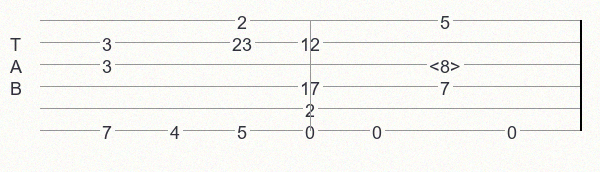0: (305, 122, 319, 139), (372, 122, 386, 139), (507, 122, 521, 139)
12: (300, 34, 324, 51)
17: (300, 78, 324, 95)
2: (237, 12, 251, 29), (305, 100, 319, 117)
23: (232, 34, 256, 51)
3: (102, 34, 116, 51), (102, 56, 116, 73)
4: (170, 122, 184, 139)
5: (237, 122, 251, 139), (440, 12, 454, 29)
7: (102, 122, 116, 139), (440, 78, 454, 95)
harmonic: (429, 56, 465, 73)
